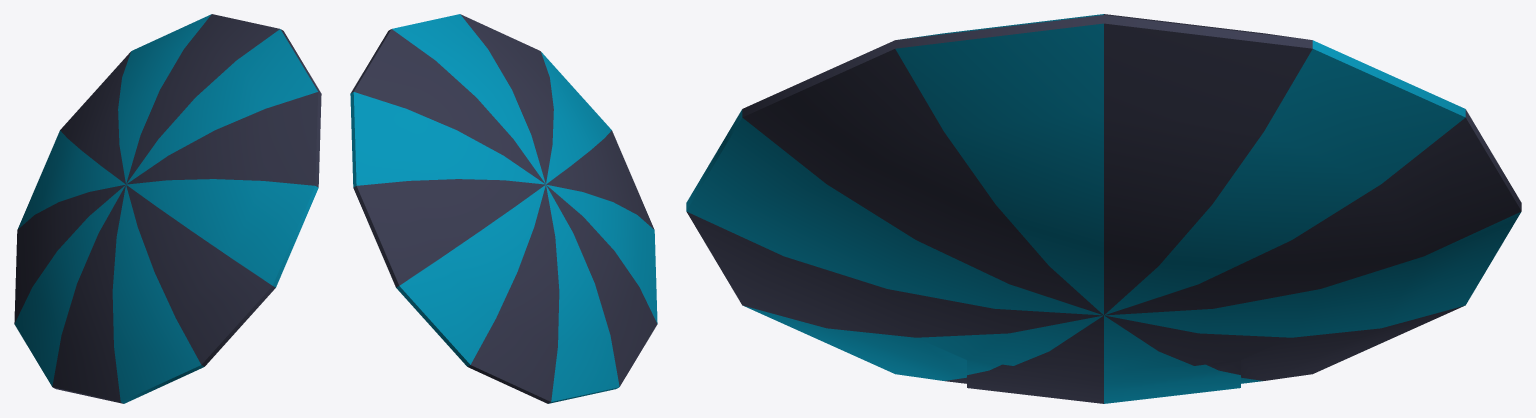
File: UFO Model.FBX
3 views of the same model, side by side, from view 1: azimuth 30°, elevation 25°; view 2: azimuth 150°, elevation 25°; view 3: azimuth 270°, elevation 25° (orthographic). The views are drawn at different scales.
Parts seen in each view (by area): view 1: OilTank005; view 2: OilTank005; view 3: OilTank005, Object, Box006.
Boxes of the visible parts, x1,y1,x2,y2 form: OilTank005: [14, 14, 321, 403]; OilTank005: [350, 14, 657, 403]; OilTank005: [686, 14, 1521, 383]; Object: [967, 360, 1240, 391]; Box006: [967, 380, 1240, 403].
Bounding box in the file's own units: 89.78 × 113 × 143.
